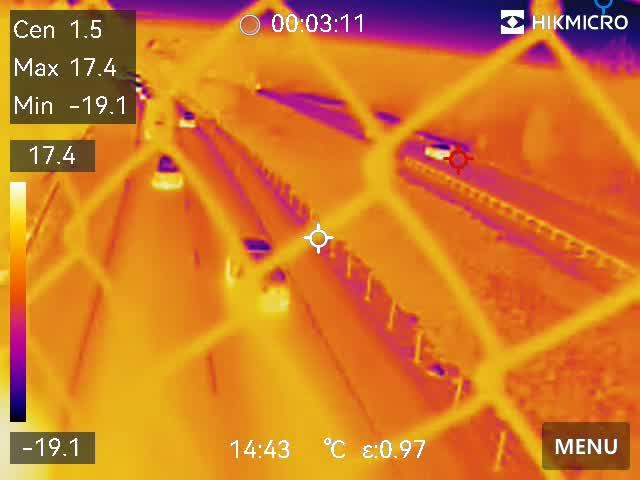vehicle: (220, 230, 295, 327), (151, 148, 188, 213), (416, 139, 453, 165), (177, 110, 201, 137)
